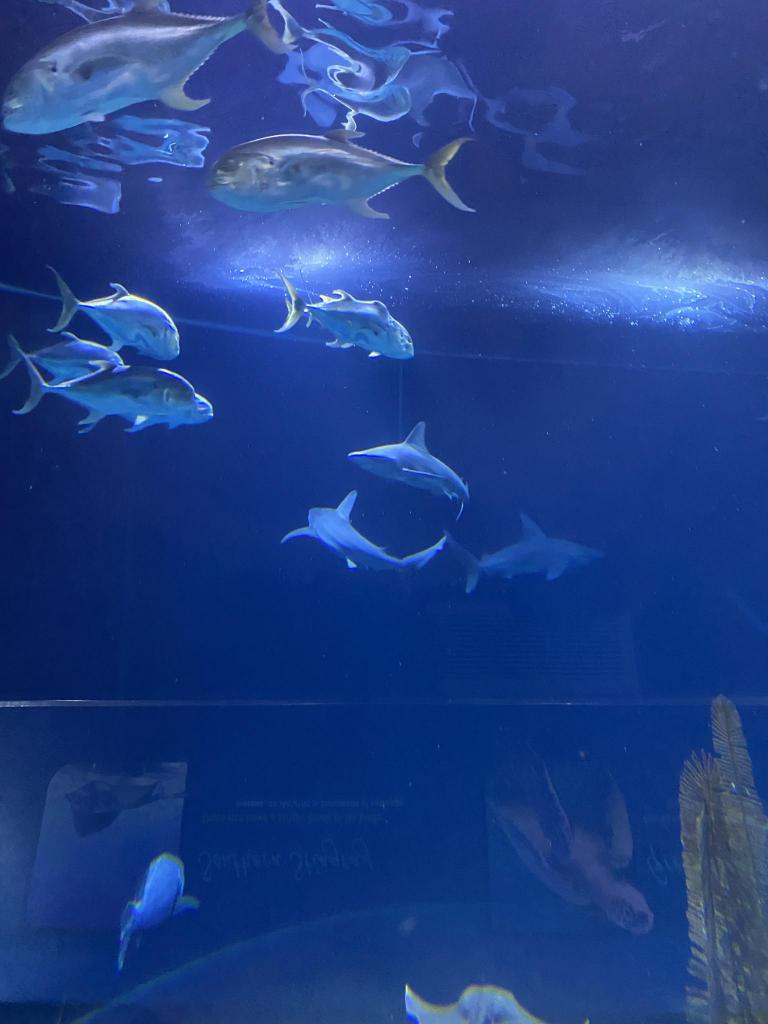Fish: (3, 0, 307, 138), (5, 259, 217, 437), (209, 132, 473, 220), (270, 262, 415, 358)
Shark: (281, 490, 447, 570), (346, 425, 470, 522)
